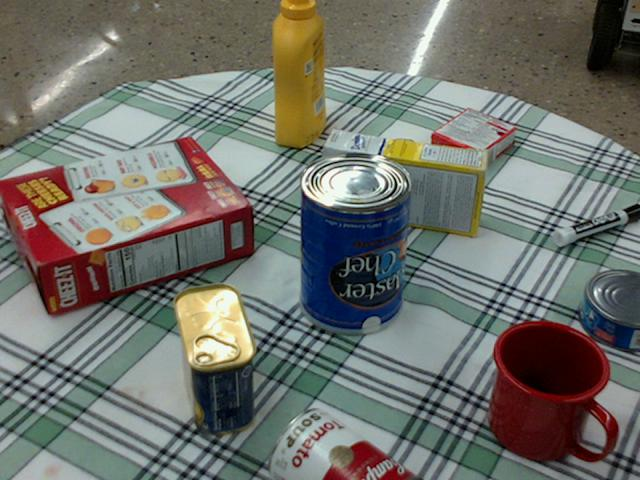cracker_box: (0, 138, 249, 313)
gelatin_box: (429, 108, 515, 171)
large_marker: (553, 204, 639, 245)
master_chef_can: (300, 151, 413, 333)
mug: (487, 320, 615, 461)
mustard_bottle: (272, 0, 324, 146)
potted_meat_can: (172, 283, 256, 433)
sugar_box: (321, 130, 489, 236)
tomato_soup_can: (268, 409, 417, 479)
tuna_fish_can: (579, 270, 639, 351)
